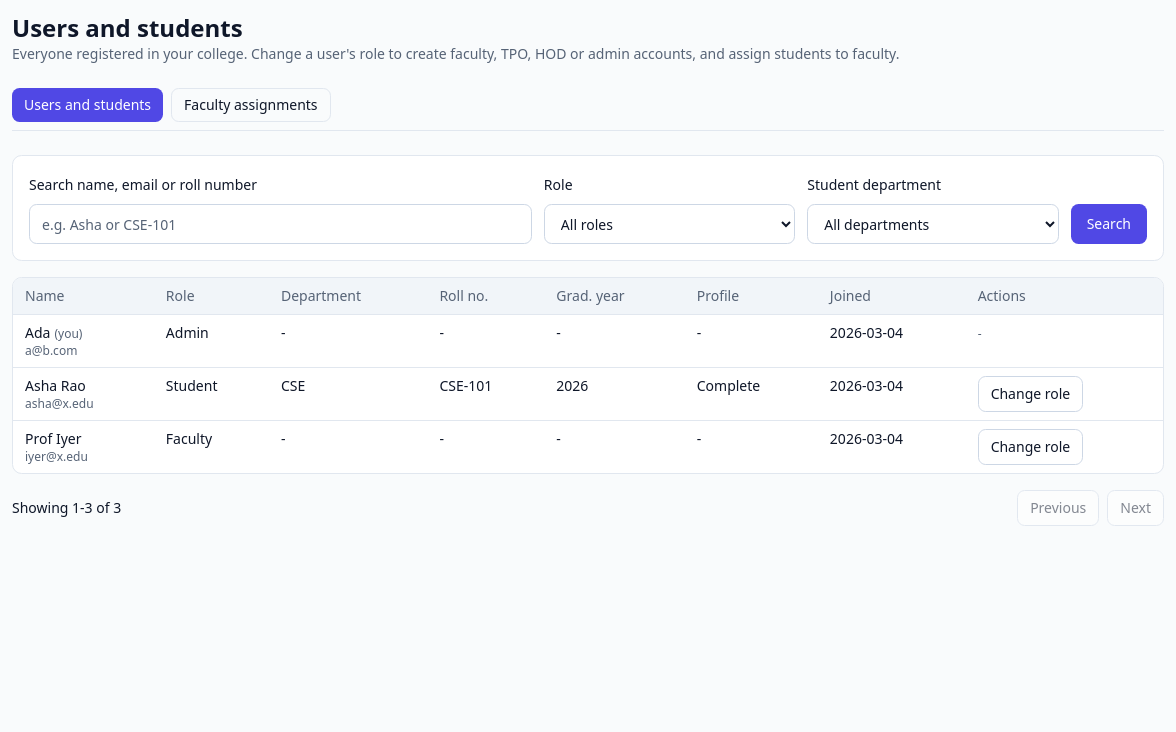
AdminUsersPage - faculty assignments tab › confirms before removing, and can cancel
Click the tab "Faculty assignments": x=251, y=105 [171, 88, 331, 122]
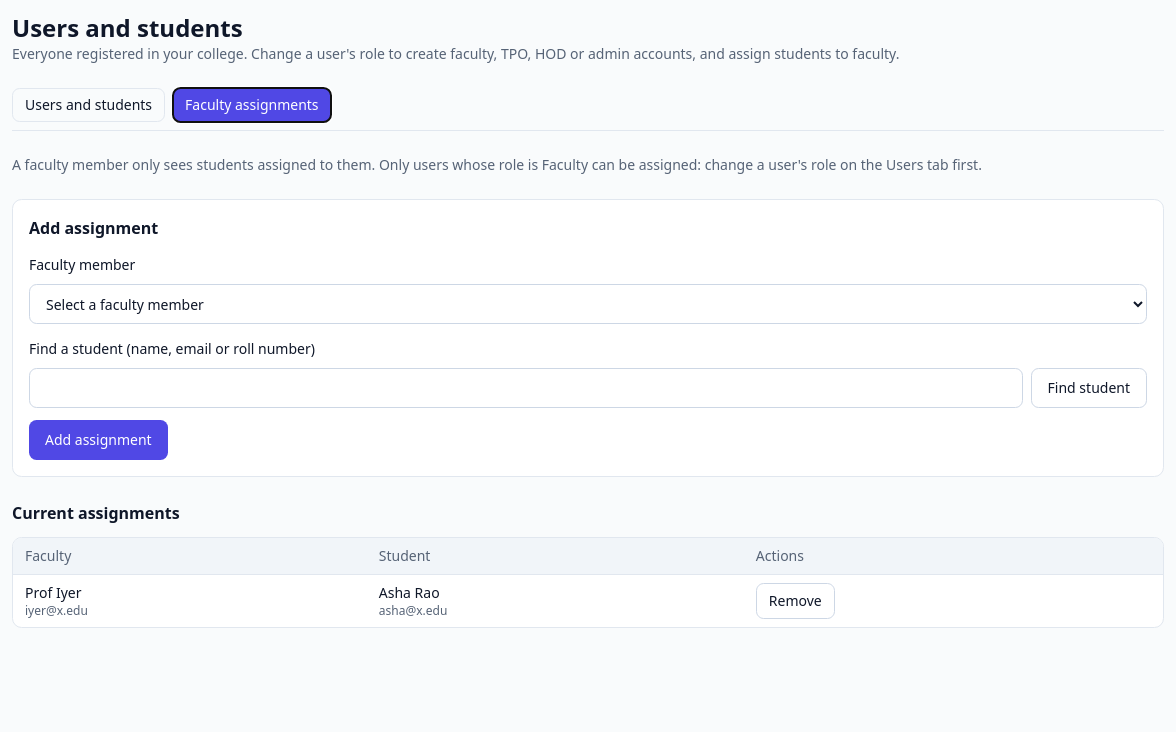
Expected: the heading "Current assignments" is shown, [12, 502, 180, 524]
Click the button "Remove": x=795, y=601 [756, 583, 835, 619]
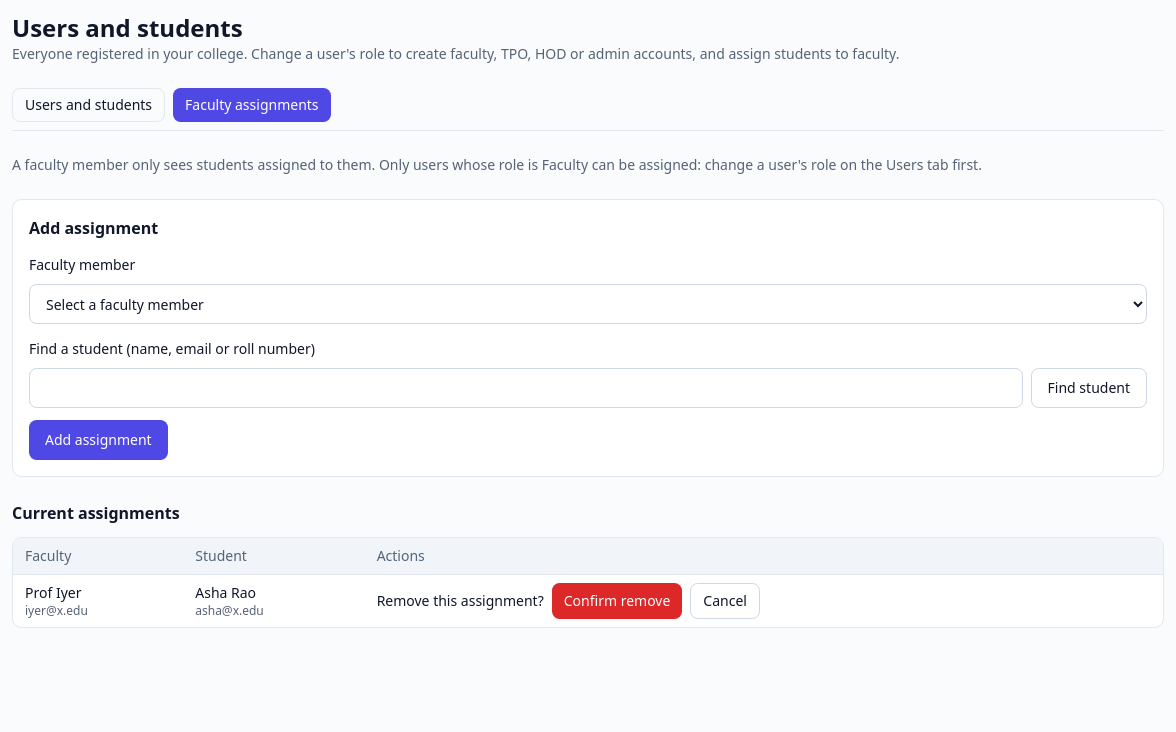
Click the button "Cancel": x=725, y=601 [690, 583, 760, 619]
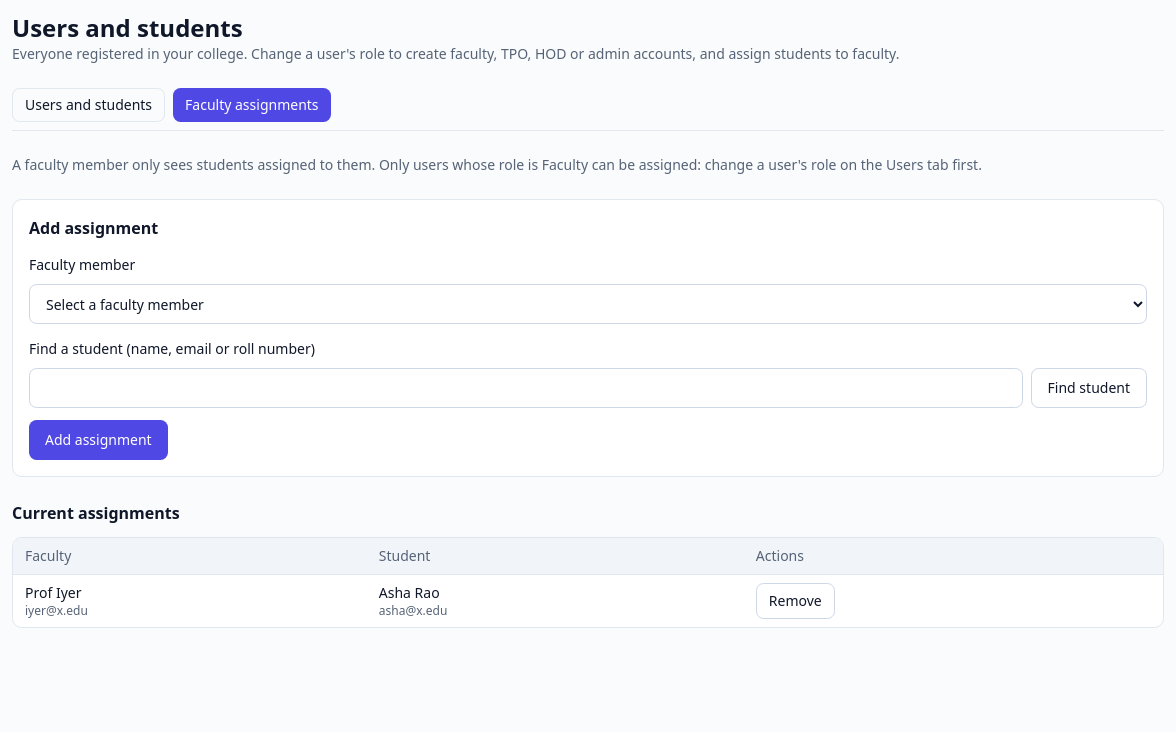
Click the button with aria-label "Remove Asha Rao from Prof Iyer": x=795, y=601 [756, 583, 835, 619]
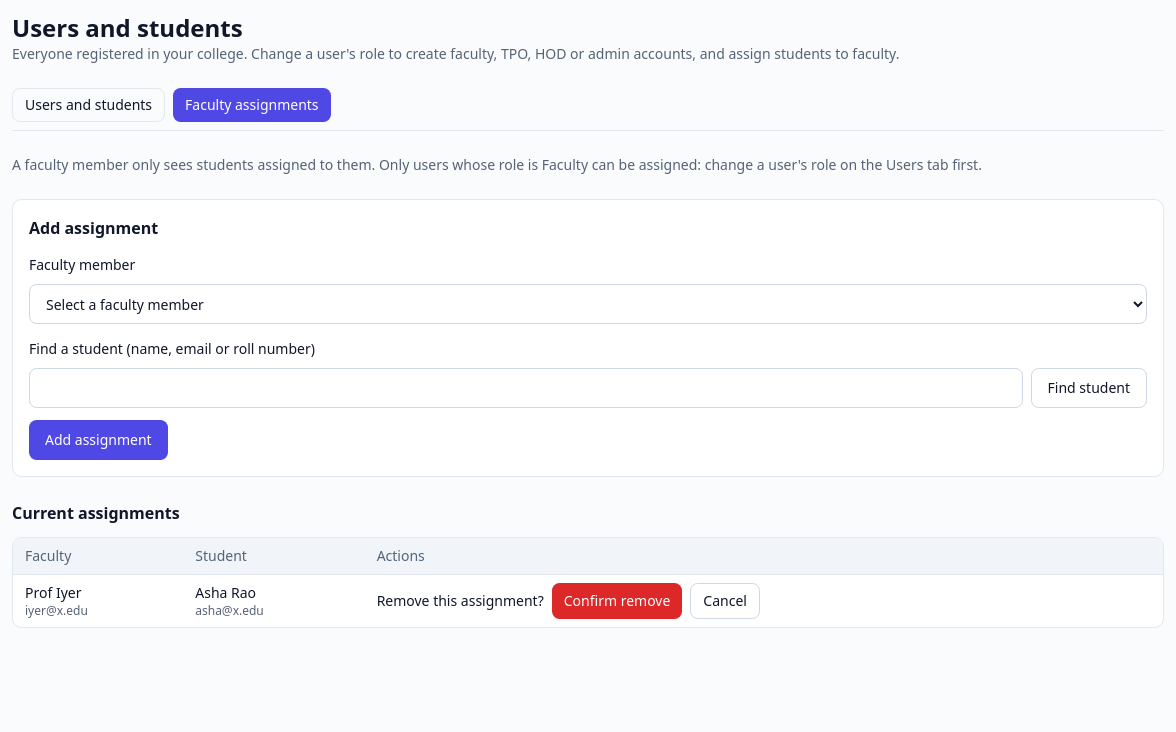
Click the button "Confirm remove": x=617, y=601 [552, 583, 682, 619]
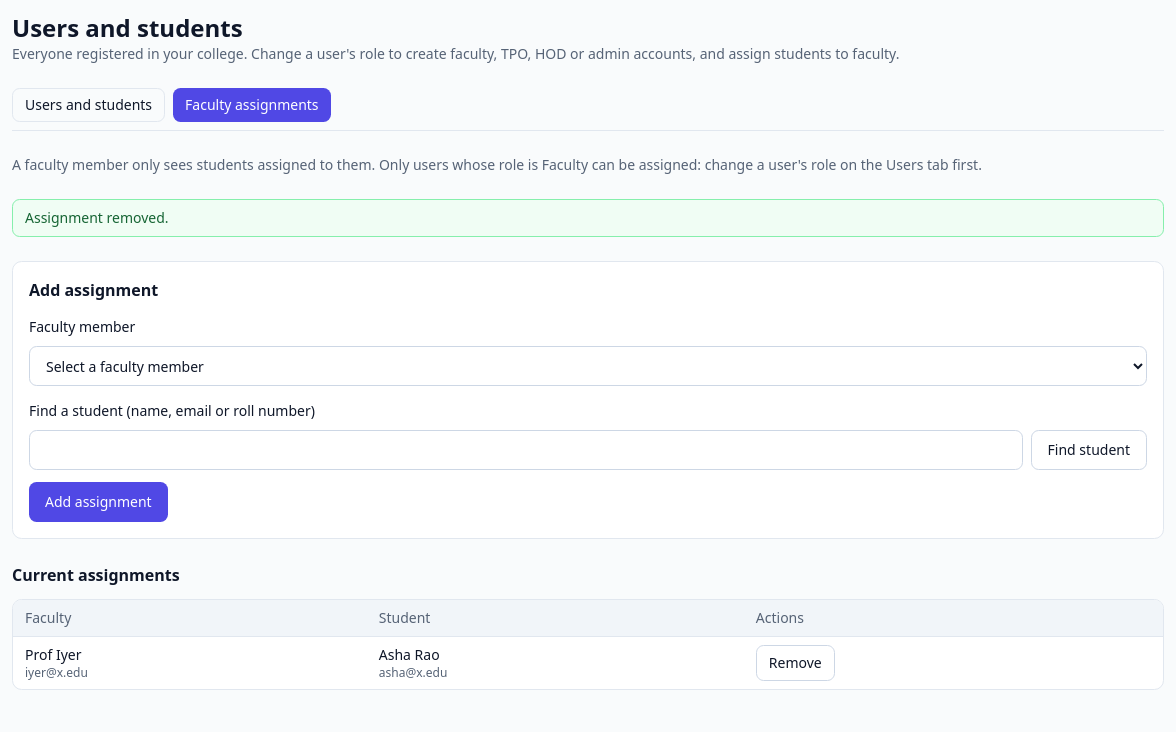
Expected: the text "Assignment removed." is shown, [12, 199, 1164, 237]
